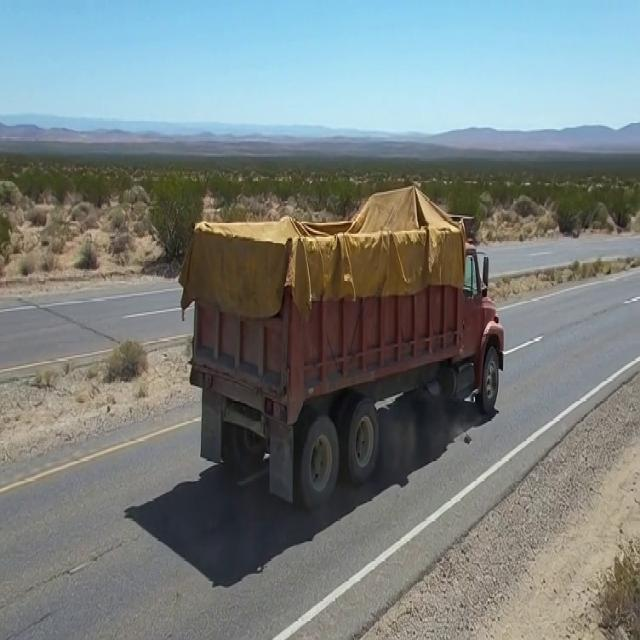Box: (178, 197, 477, 288)
Truck: (174, 168, 506, 508)
